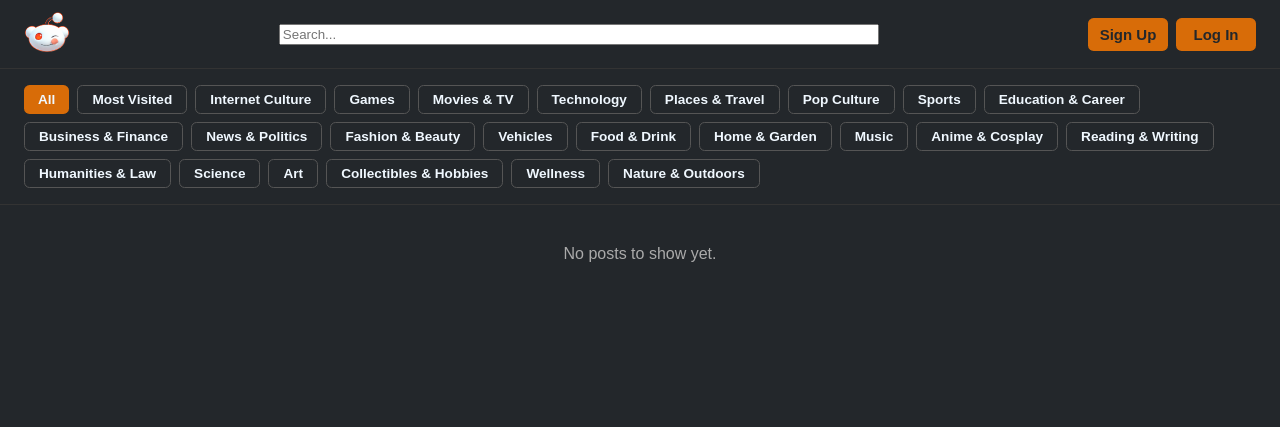
Test: clicking login button navigates to the login form
This screenshot has width=1280, height=427.
Note: navigate to the login form
Click the button "Log In": {"x": 1216, "y": 34} [1176, 18, 1256, 50]
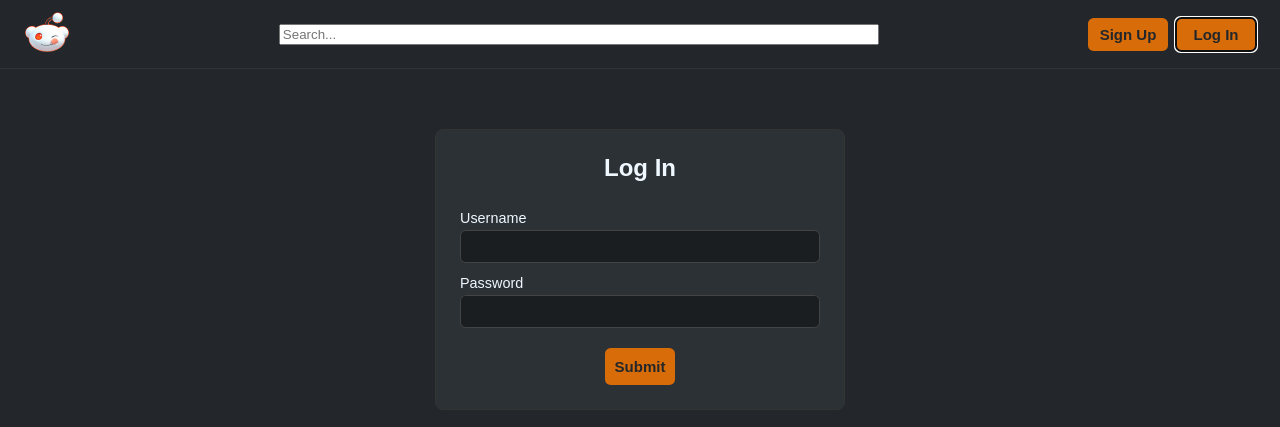
Now the heading "Log In" is shown, box [604, 154, 676, 181]
